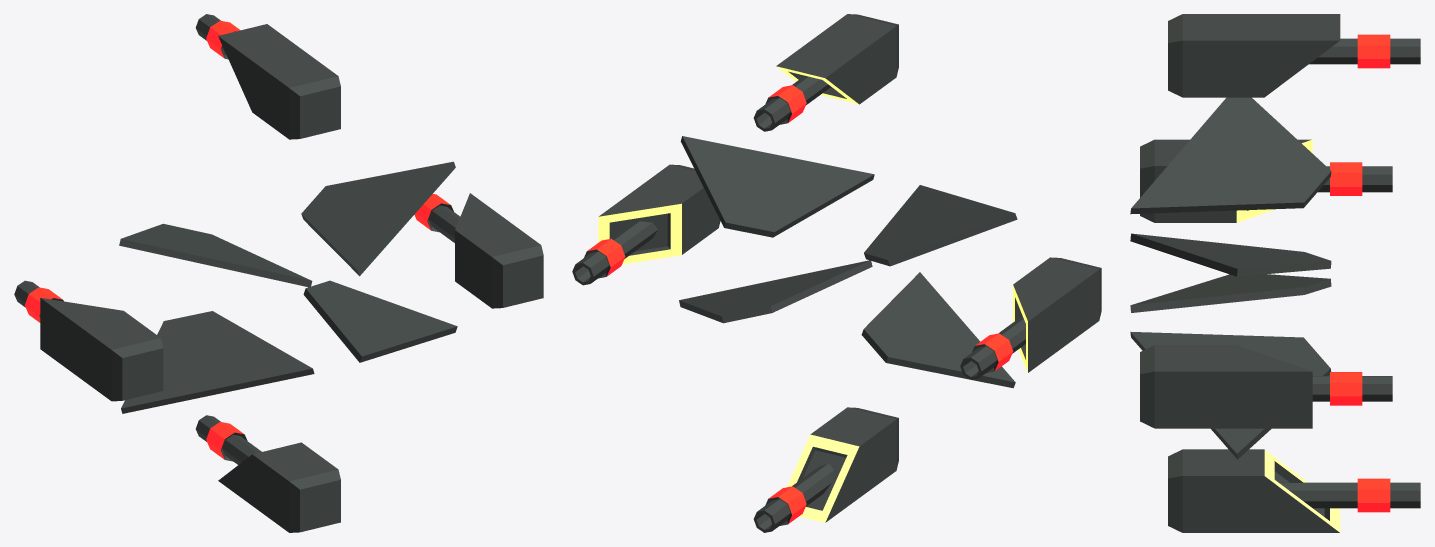
The model's file is Rocket.fbx.
3 renders of one model, left to right at view 1: azimuth 30°, elevation 25°; view 2: azimuth 150°, elevation 25°; view 3: azimuth 270°, elevation 25°, orthographic. The views are drawn at different scales.
Visible parts, largest first — view 1: Cube, Cube.001, Body.004, Body.001, Body.003, Body.002; view 2: Cube, Cube.001, Body.001, Body.004, Body.002, Body.003; view 3: Cube, Cube.001, Body.002, Body.001, Body.003, Body.004.
Part boxes in pixels (box(x1,y1,x2,y2)): Cube: box(195, 14, 340, 532); Cube.001: box(14, 193, 543, 401); Body.004: box(121, 311, 314, 413); Body.001: box(301, 161, 455, 276); Body.003: box(303, 280, 457, 362); Body.002: box(119, 223, 312, 287); Cube: box(753, 14, 898, 532); Cube.001: box(572, 164, 1101, 379); Body.001: box(680, 136, 874, 237); Body.004: box(861, 272, 1015, 388); Body.002: box(864, 185, 1017, 266); Body.003: box(679, 260, 872, 323); Cube: box(1168, 14, 1420, 532); Cube.001: box(1140, 139, 1392, 428); Body.002: box(1130, 97, 1331, 214); Body.001: box(1130, 233, 1331, 276); Body.003: box(1130, 331, 1331, 459); Body.004: box(1130, 274, 1331, 312).
Bounding box in the file's own units: 387 × 383 × 205.
